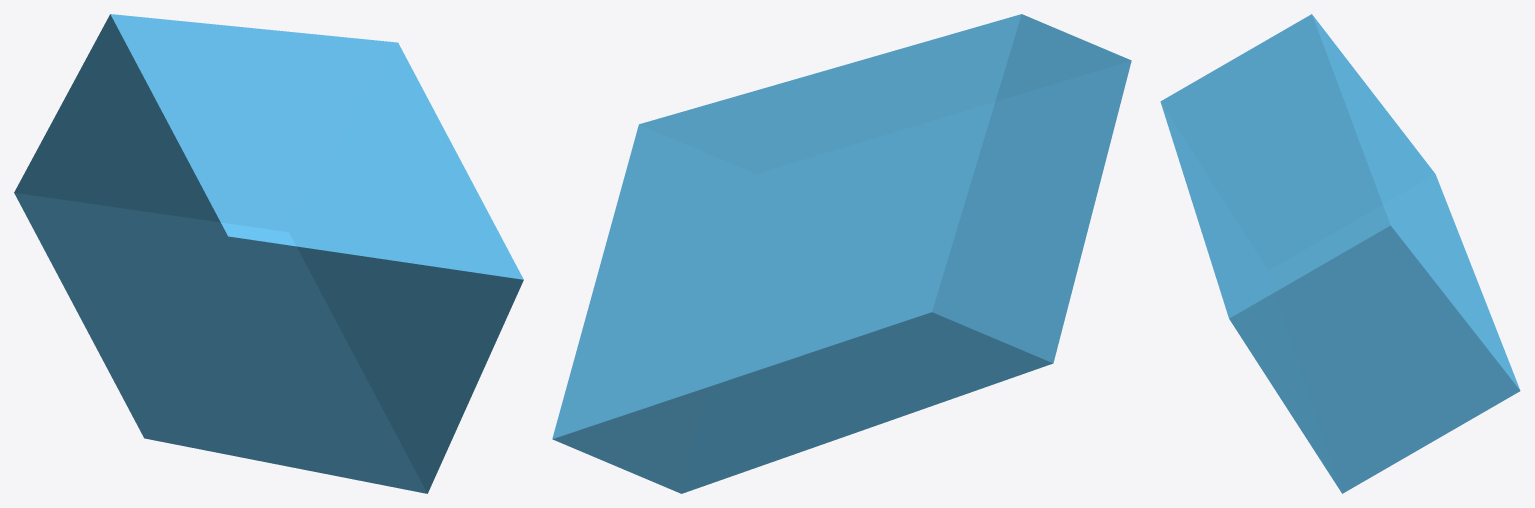
File: Event_420094457_HErechit_88.fbx
The picture shows the model from 3 angles, left to right: view 1: azimuth 30°, elevation 25°; view 2: azimuth 150°, elevation 25°; view 3: azimuth 270°, elevation 25°; orthographic projection. The views are drawn at different scales.
Parts seen in each view (by area): view 1: Model; view 2: Model; view 3: Model.
Part boxes in pixels (x1,y1,x2,y2): Model: [14, 14, 523, 493]; Model: [552, 14, 1131, 493]; Model: [1160, 14, 1520, 493].
Size of the model in its own units: 0.7092 by 1.13 by 0.9858.
